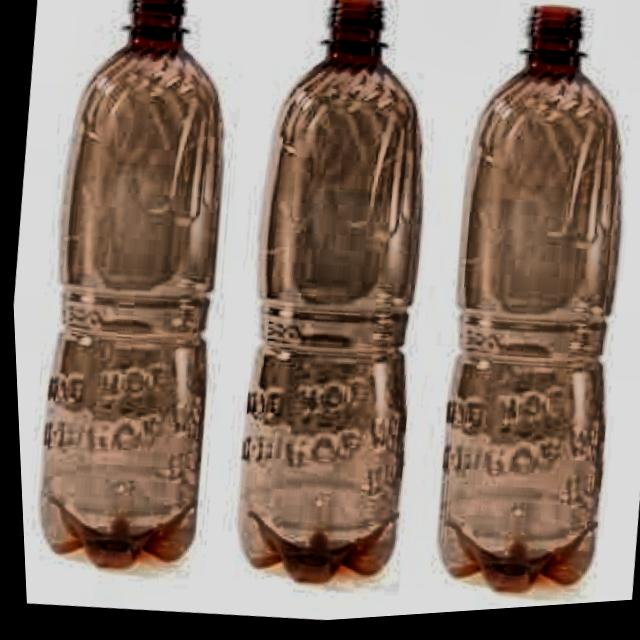Bottles: (182, 0, 481, 604), (0, 0, 284, 578), (392, 0, 640, 615)
